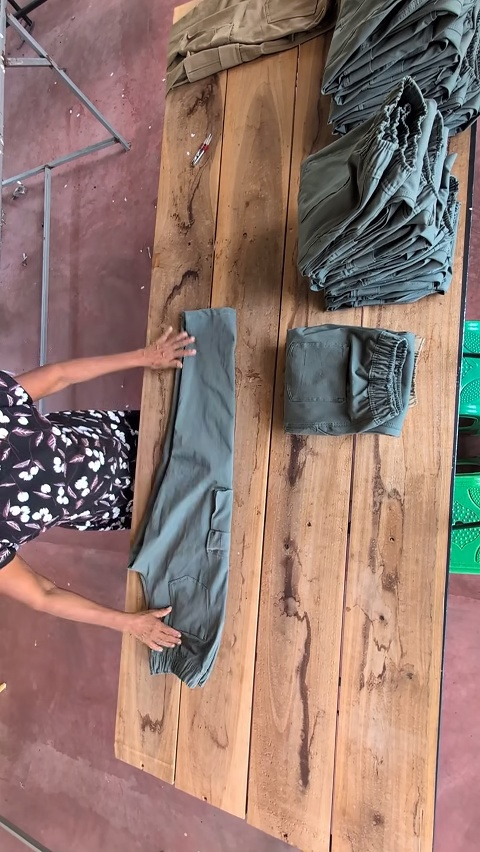TROUSER: (119, 68, 394, 785)
